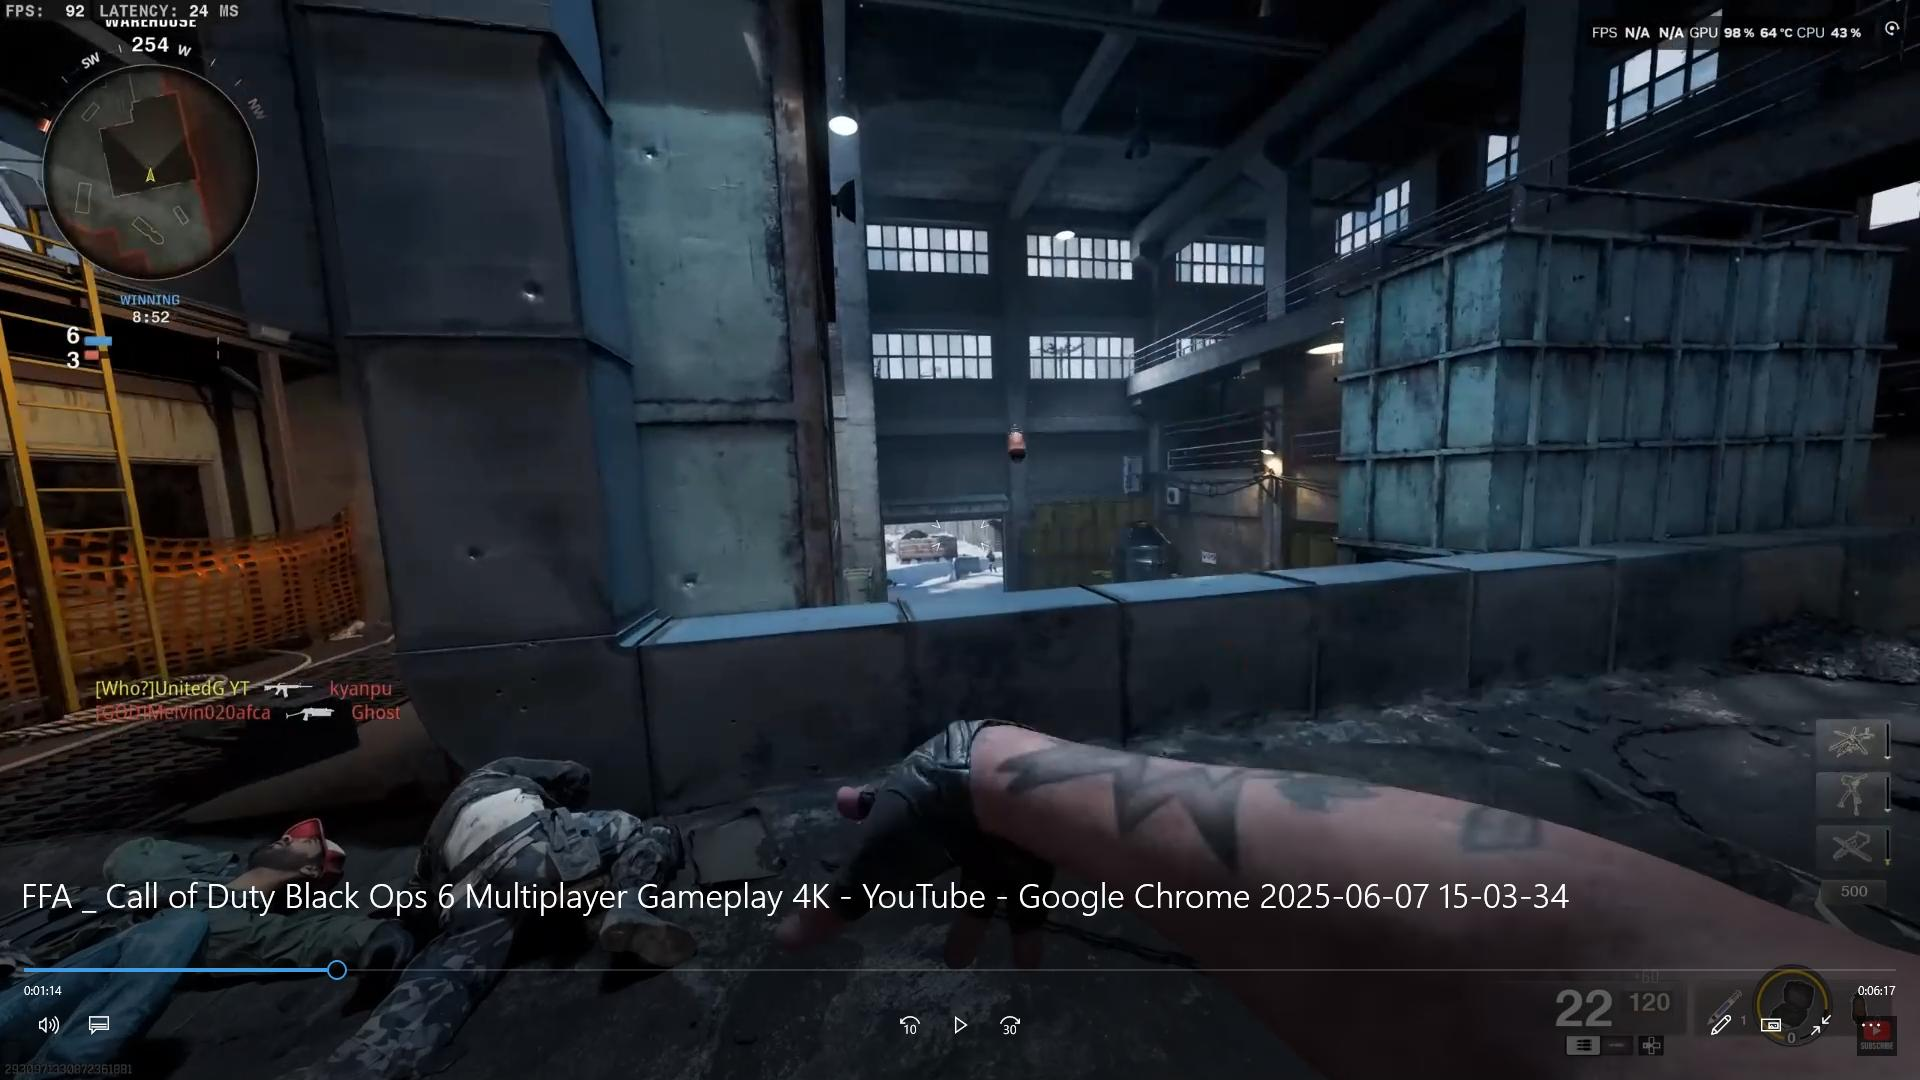Enemy: (982, 543, 1000, 580)
